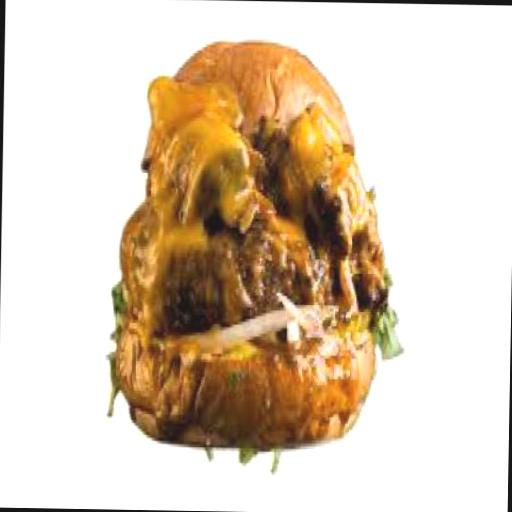biodegradable: (106, 32, 411, 468), (166, 228, 336, 337), (264, 100, 363, 252), (320, 170, 395, 314), (180, 122, 262, 232), (147, 66, 246, 156), (118, 201, 168, 343), (140, 152, 188, 244)
